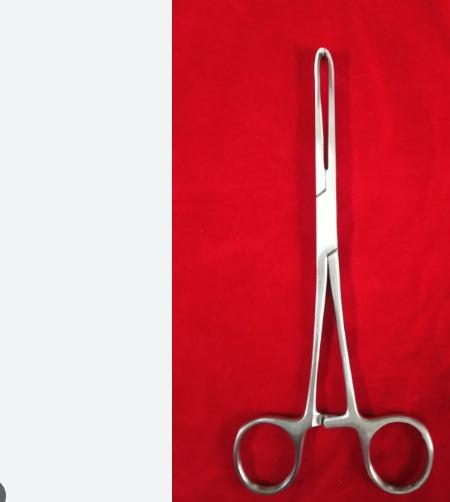Allis Forceps: (228, 42, 441, 495)
